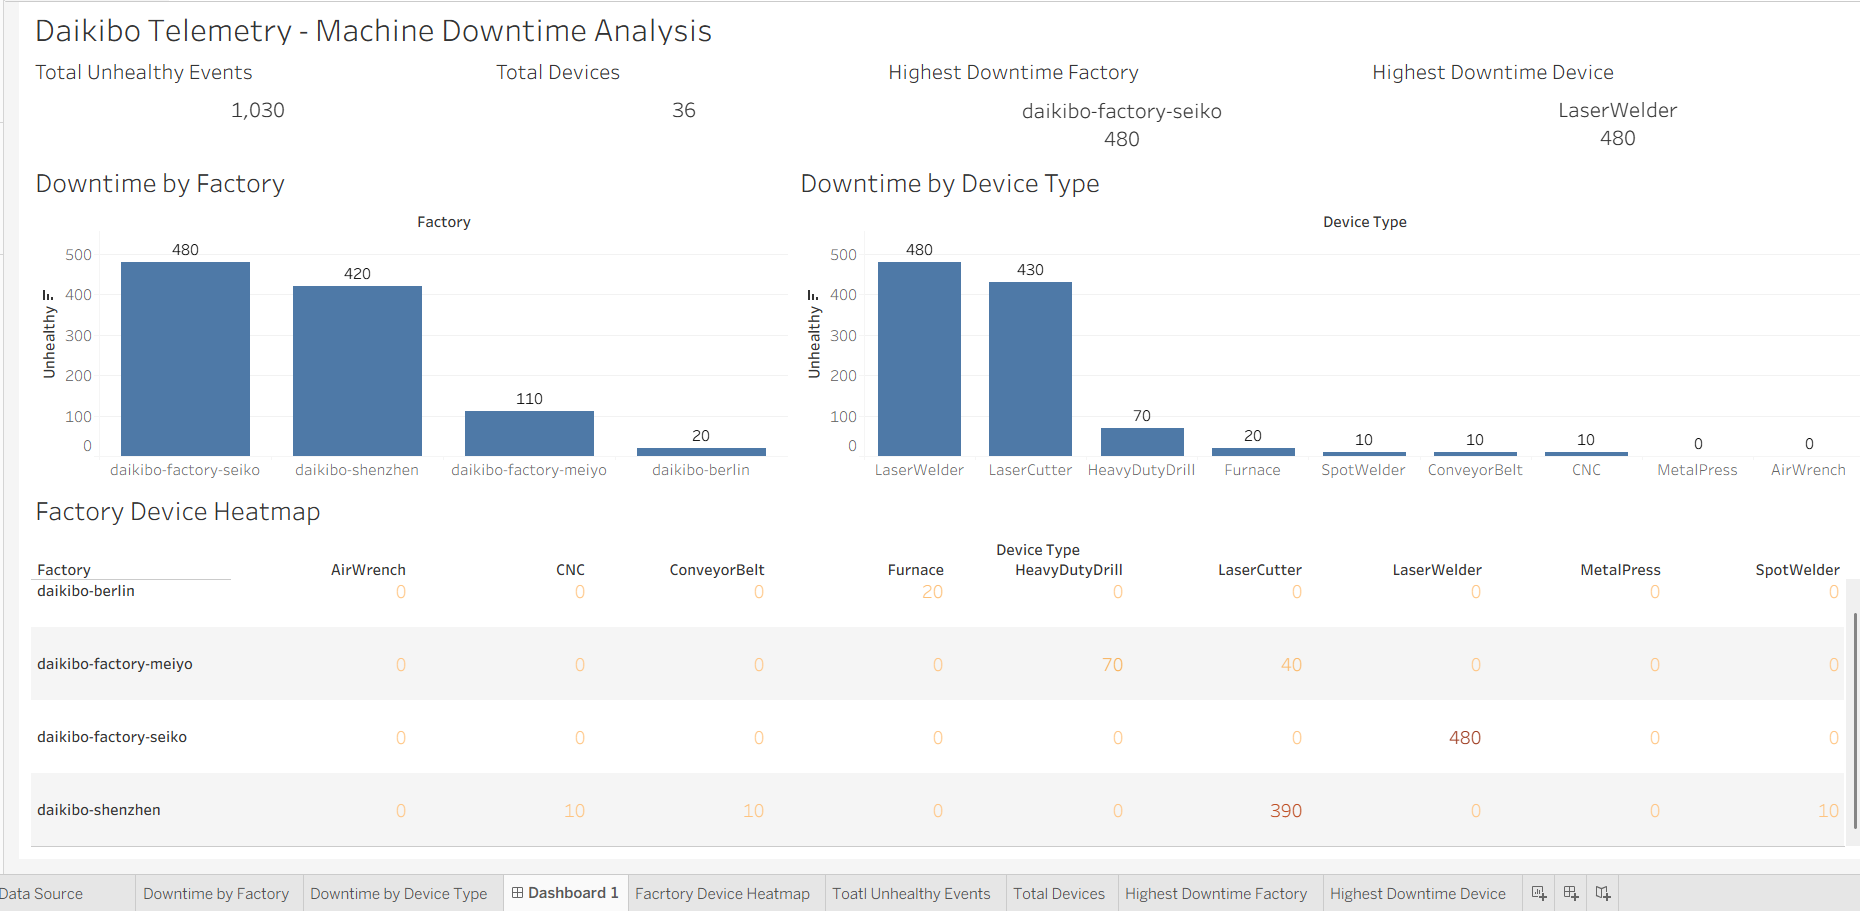

The page's visual inventory and layout, read from the dashboard file:
{"tool":"tableau","page":{"name":"Dashboard 1","canvas":[1000,1000],"units":"permille","ordinal":0},"visuals":[{"type":"title","box":[4.3,9.3,991.4,45.5]},{"type":"worksheet","title":"Toatl Unhealthy Events","mark":"Automatic","box":[4.3,54.8,247.8,126.5]},{"type":"worksheet","title":"Total Devices","mark":"Automatic","box":[252.1,54.8,211,126.5]},{"type":"worksheet","title":"Highest Downtime Factory","mark":"Automatic","box":[463.1,54.8,260.1,126.5]},{"type":"worksheet","title":"Highest Downtime Device","mark":"Automatic","box":[723.2,54.8,272.5,126.5]},{"type":"worksheet","title":"Downtime by Factory","mark":"Automatic","rows":["Calculation_1669622744674304"],"cols":["factory"],"box":[4.3,181.4,411.5,382.2]},{"type":"worksheet","title":"Downtime by Device Type","mark":"Automatic","rows":["Calculation_1669622744674304"],"cols":["deviceType"],"box":[415.8,181.4,579.9,382.2]},{"type":"worksheet","title":"Facrtory Device Heatmap","mark":"Automatic","rows":["factory"],"cols":["deviceType"],"box":[4.3,563.6,991.4,427.1]}]}

Visuals, with their boxes on the dashboard's canvas, which has no fixed pixel size, in thousandths of its width and height (x1, y1, x2, y2). These are canvas units, not pixel positions in the 1860x911 screenshot, which may show the page scaled, cropped or inside an application window:
title: left=4, top=9, right=996, bottom=55
"Toatl Unhealthy Events" worksheet: left=4, top=55, right=252, bottom=181
"Total Devices" worksheet: left=252, top=55, right=463, bottom=181
"Highest Downtime Factory" worksheet: left=463, top=55, right=723, bottom=181
"Highest Downtime Device" worksheet: left=723, top=55, right=996, bottom=181
"Downtime by Factory" worksheet: left=4, top=181, right=416, bottom=564
"Downtime by Device Type" worksheet: left=416, top=181, right=996, bottom=564
"Facrtory Device Heatmap" worksheet: left=4, top=564, right=996, bottom=991
